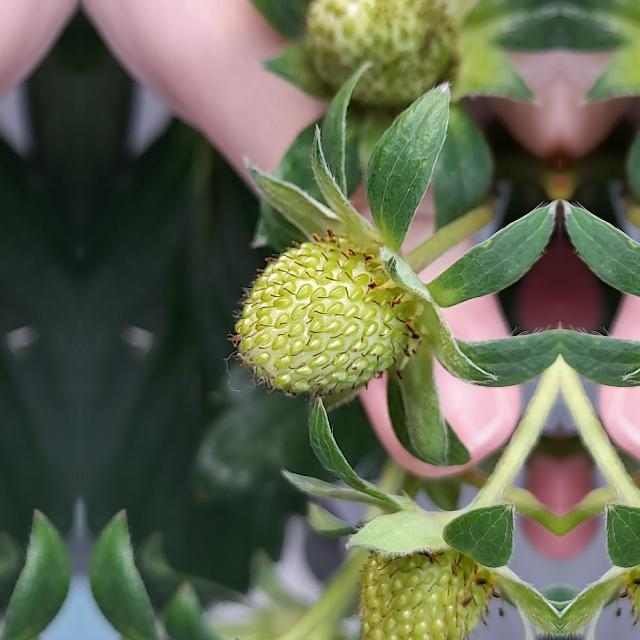Health_25: (218, 234, 412, 400), (362, 524, 486, 640)
